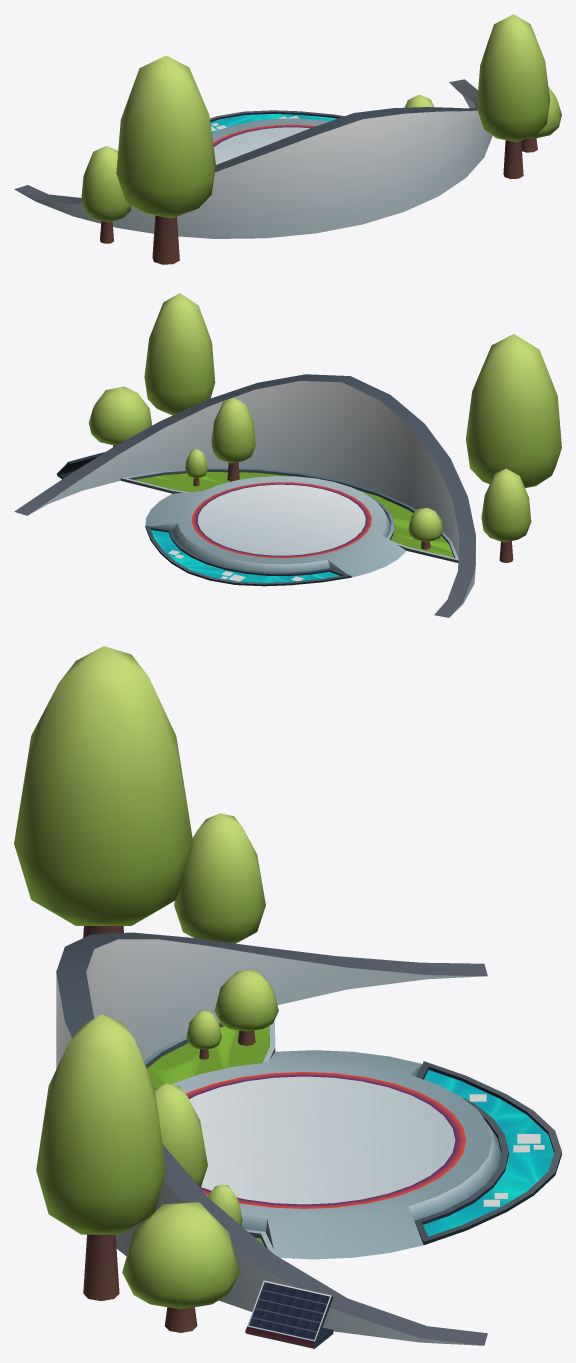
Rendered from podium_V2.glb.
The picture shows the model from 3 angles, top to bottom: view 1: azimuth 30°, elevation 25°; view 2: azimuth 150°, elevation 25°; view 3: azimuth 270°, elevation 25°; orthographic projection. The views are drawn at different scales.
Visible parts, largest first — view 1: wall_host, arbusto.003, arbusto.005, podium_host, arbusto.004, arbusto.006; view 2: wall_host, podium_host, arbusto.003, arbusto.005, garden, arbusto.004, arbusto.006, arbusto.007, arbusto.001, arbusto; view 3: podium_host, arbusto.003, wall_host, arbusto.005, arbusto.006, arbusto.004, garden, solar_panel, arbusto.001, arbusto.007, arbusto.002.
Boxes of the visible parts, x1=… form: wall_host: x1=14, y1=79, x2=492, y2=238; arbusto.003: x1=116, y1=55, x2=215, y2=264; arbusto.005: x1=477, y1=14, x2=550, y2=178; podium_host: x1=210, y1=110, x2=344, y2=164; arbusto.004: x1=81, y1=146, x2=131, y2=243; arbusto.006: x1=521, y1=87, x2=561, y2=152; wall_host: x1=14, y1=374, x2=475, y2=617; podium_host: x1=145, y1=476, x2=406, y2=586; arbusto.003: x1=466, y1=334, x2=561, y2=488; arbusto.005: x1=144, y1=293, x2=215, y2=415; garden: x1=120, y1=468, x2=458, y2=562; arbusto.004: x1=481, y1=468, x2=531, y2=562; arbusto.006: x1=88, y1=386, x2=152, y2=446; arbusto.007: x1=211, y1=397, x2=255, y2=481; arbusto.001: x1=408, y1=507, x2=443, y2=549; arbusto: x1=185, y1=449, x2=207, y2=486; podium_host: x1=171, y1=1050, x2=561, y2=1259; arbusto.003: x1=14, y1=646, x2=193, y2=937; wall_host: x1=56, y1=932, x2=487, y2=1345; arbusto.005: x1=36, y1=1014, x2=166, y2=1300; arbusto.006: x1=122, y1=1202, x2=239, y2=1332; arbusto.004: x1=174, y1=813, x2=265, y2=943; garden: x1=144, y1=1020, x2=275, y2=1254; solar_panel: x1=245, y1=1280, x2=333, y2=1348; arbusto.001: x1=214, y1=970, x2=278, y2=1045; arbusto.007: x1=154, y1=1083, x2=207, y2=1187; arbusto.002: x1=186, y1=1011, x2=221, y2=1059.
Size of what is drawn, in the model's own units: 15.45 by 6.53 by 9.16.
Materials: 2 (2 with a texture image).
